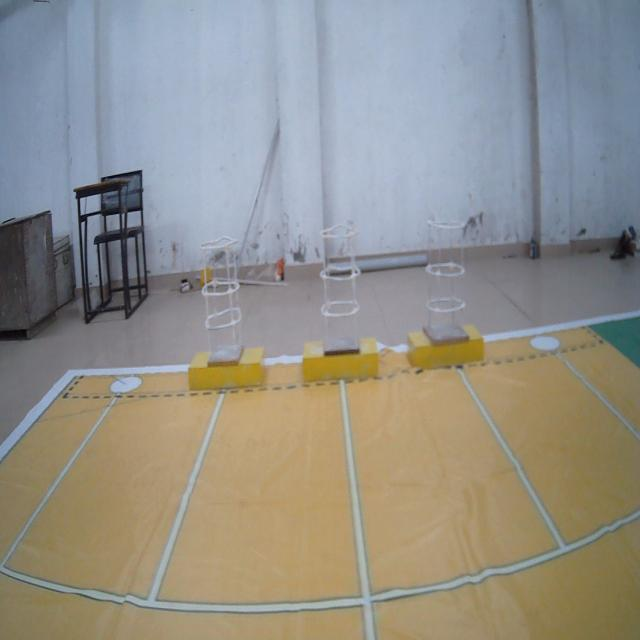silo: (311, 218, 371, 370), (420, 214, 478, 353), (200, 229, 250, 380)
